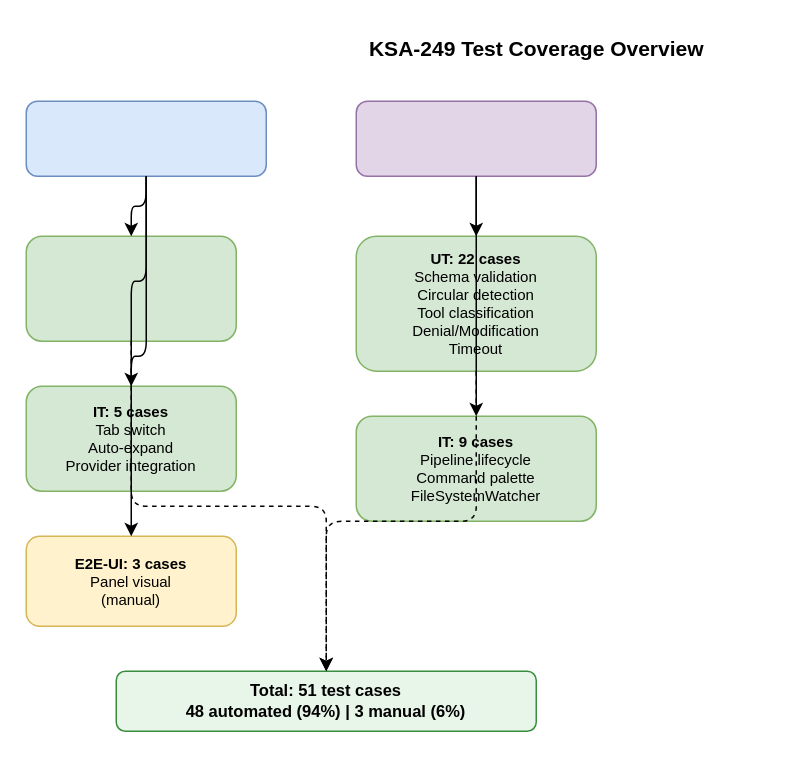
This 788x758 diagram has some shape labels left out. Here are the shapes that lost their labels. From the top down, the centre of each, then its label:
the point at 145,138: Context Usage Graph 4 Use Cases
the point at 475,138: Hook System 9 Use Cases
the point at 130,288: UT: 12 cases Token calc Thresholds Formatting
